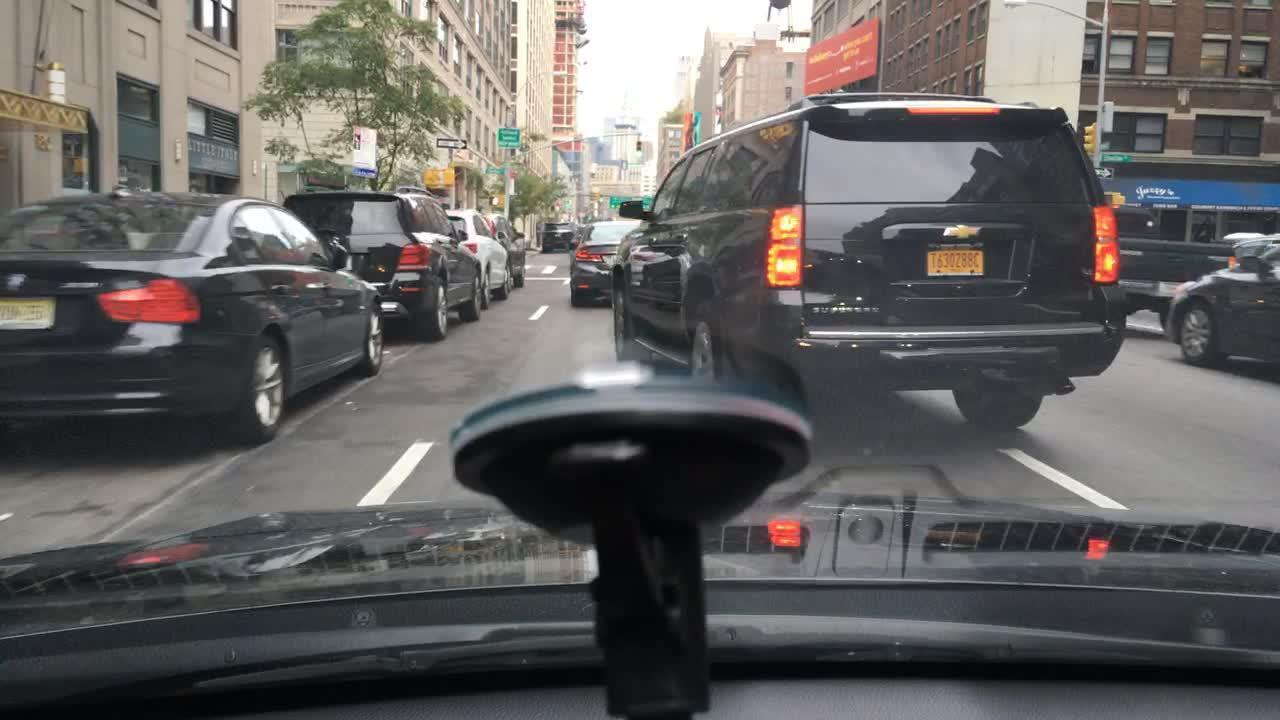chevrolet: (938, 219, 985, 244)
